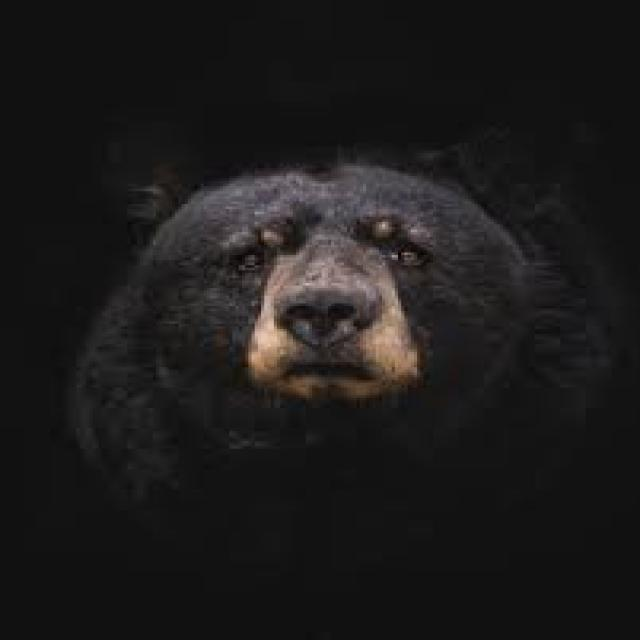bear: (84, 137, 565, 494)
